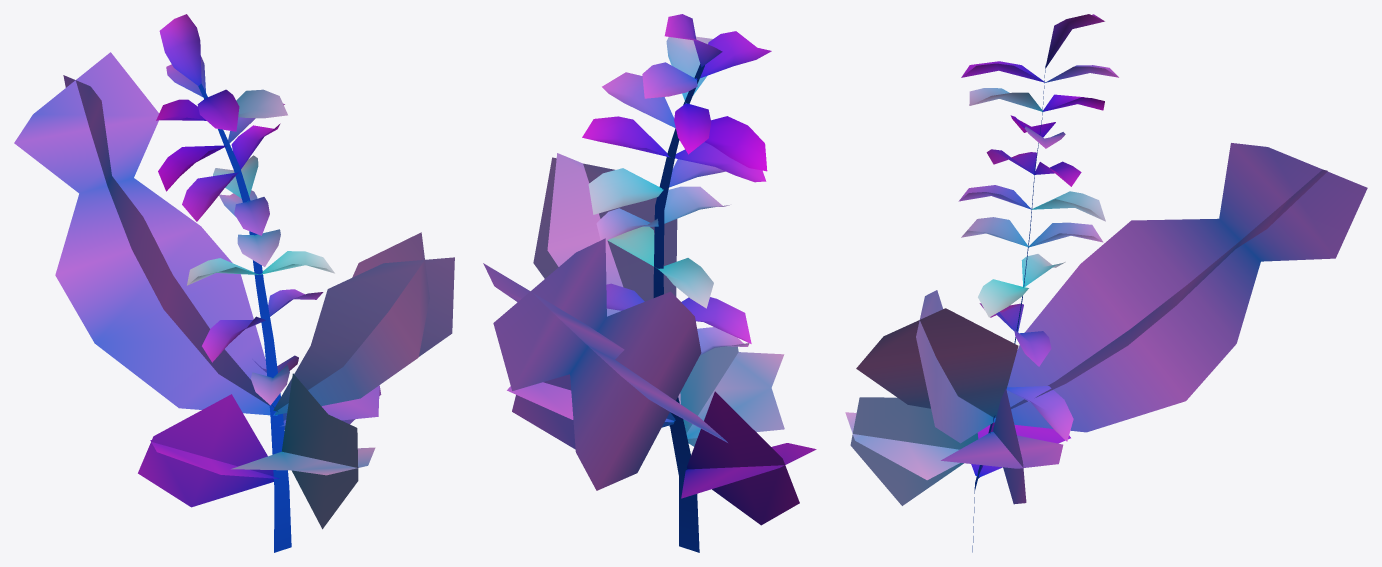
Rendered from European_Spindle_wk1ncbxja_Mid_wk1ncbxja_VarG_LOD2.fbx.
The picture shows the model from 3 angles, left to right: view 1: azimuth 30°, elevation 25°; view 2: azimuth 150°, elevation 25°; view 3: azimuth 270°, elevation 25°; orthographic projection. The views are drawn at different scales.
Parts seen in each view (by area): view 1: _b6yf_VarG_LOD3; view 2: _b6yf_VarG_LOD3; view 3: _b6yf_VarG_LOD3.
Part boxes in pixels (<box>): _b6yf_VarG_LOD3: <box>14,14,454,552</box>; _b6yf_VarG_LOD3: <box>483,14,816,552</box>; _b6yf_VarG_LOD3: <box>845,14,1367,552</box>.
Size of the model in its own units: 34.07 by 60.73 by 55.69.
